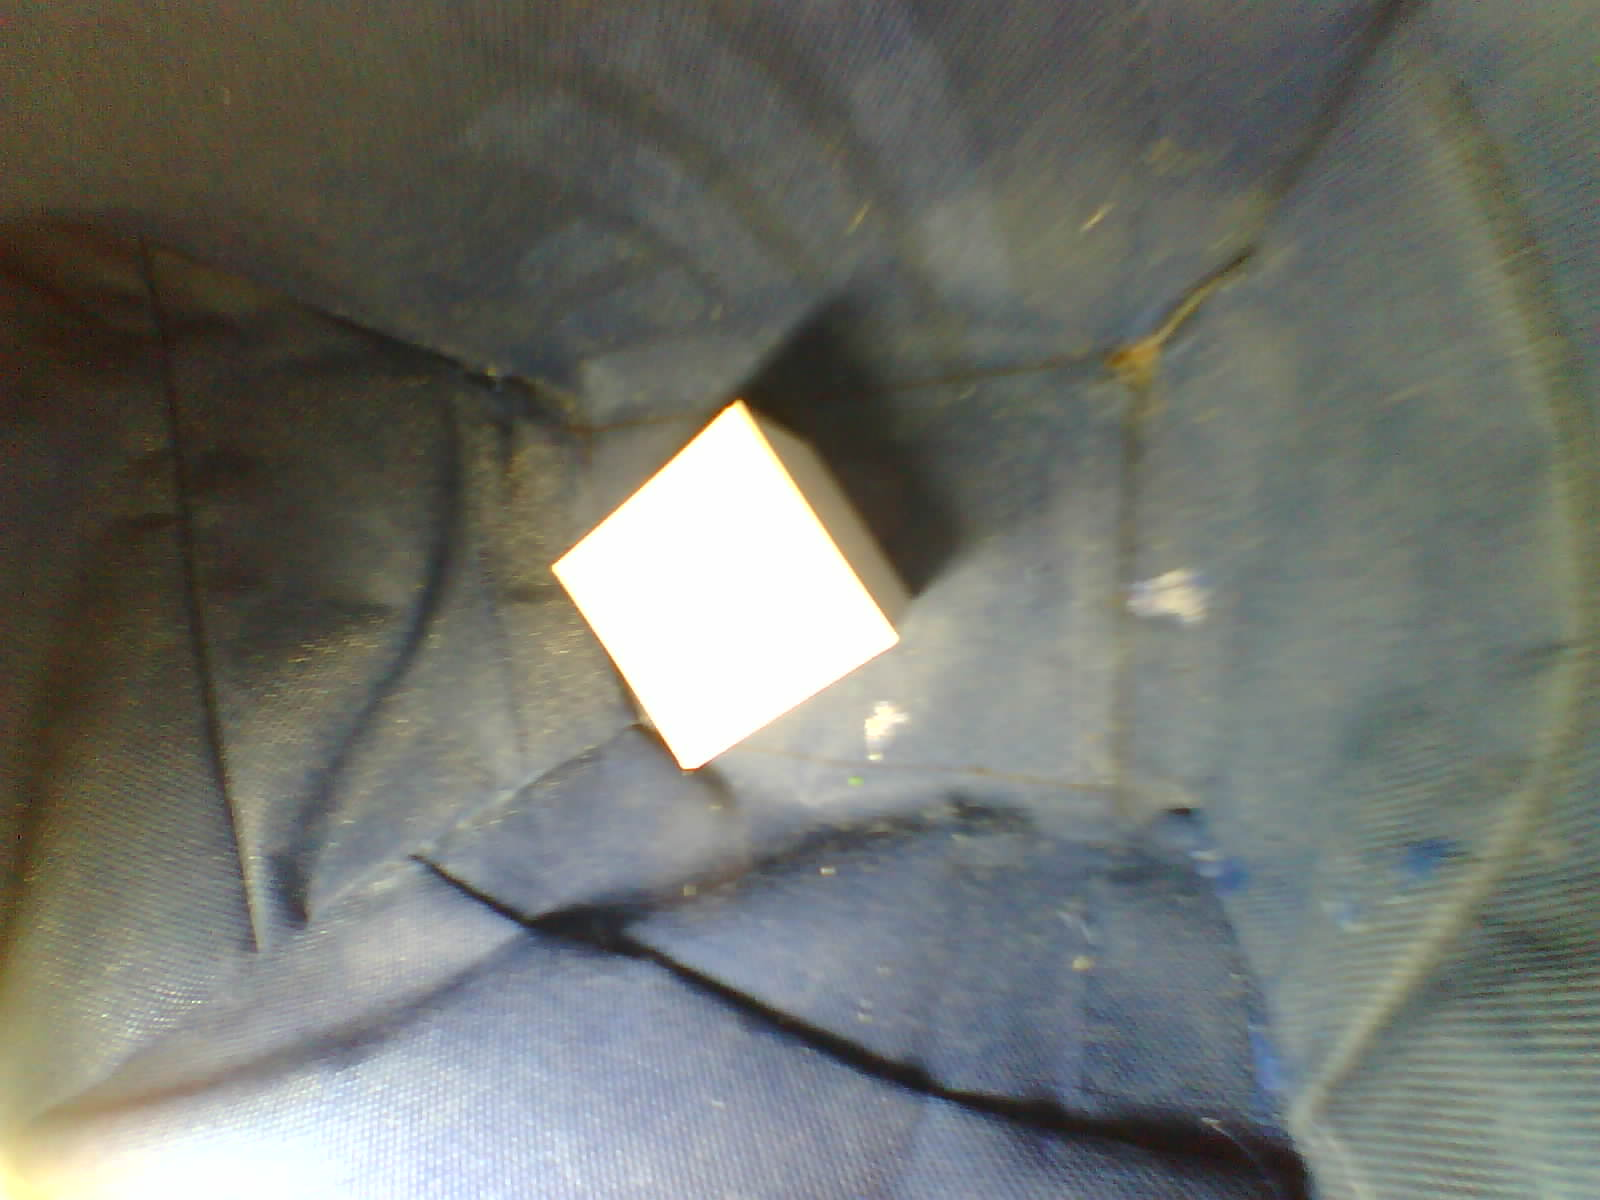cube-hard: (534, 383, 912, 802)
